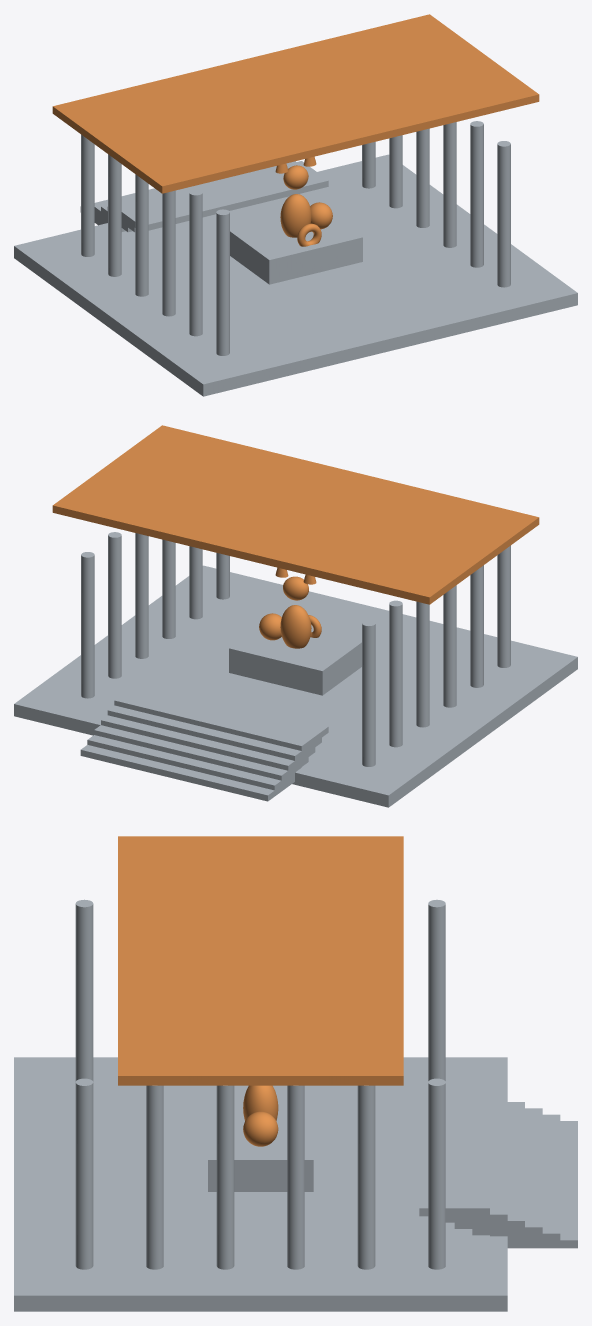
Rendered from fox-temple.glb.
3 renders of one model, top to bottom at view 1: azimuth 30°, elevation 25°; view 2: azimuth 150°, elevation 25°; view 3: azimuth 270°, elevation 25°, orthographic. The views are drawn at different scales.
Visible parts, largest first — view 1: platform, altar, step-5, column-4, column-10, column-5, column-11, roof-tile-24, column-3, column-9, roof-tile-27, roof-tile-25 (+37 smaller); view 2: platform, step-5, altar, step-0, step-4, step-2, step-1, step-3, column-1, column-7, column-0, column-6 (+43 smaller); view 3: platform, step-5, altar, column-11, column-7, column-9, column-6, column-5, column-8, column-10, column-0, roof-tile-7 (+38 smaller).
Part boxes in pixels (box(x1,y1,x2,y2)): platform: box(14, 154, 577, 396); altar: box(230, 215, 362, 284); step-5: box(121, 161, 328, 230); column-4: box(189, 189, 202, 336); column-10: box(470, 121, 483, 267); column-5: box(216, 209, 229, 355); column-11: box(497, 141, 510, 287); roof-tile-24: box(135, 154, 211, 193); column-3: box(162, 190, 175, 316); column-9: box(443, 122, 456, 247); roof-tile-27: box(275, 119, 351, 158); roof-tile-25: box(185, 142, 258, 181); platform: box(14, 565, 577, 807); step-5: box(114, 680, 328, 750); altar: box(229, 626, 361, 695); step-0: box(80, 745, 294, 801); step-4: box(107, 705, 321, 761); step-2: box(94, 725, 308, 780); step-1: box(87, 735, 301, 791); step-3: box(101, 715, 315, 770); column-1: box(389, 600, 402, 747); column-7: box(108, 532, 121, 678); column-0: box(362, 620, 375, 766); column-6: box(81, 552, 94, 698); platform: box(14, 1057, 507, 1311); step-5: box(419, 1089, 489, 1216); altar: box(208, 1100, 313, 1191); column-11: box(75, 1078, 93, 1269); column-7: box(357, 1085, 375, 1269); column-9: box(216, 1085, 234, 1269); column-6: box(428, 1078, 445, 1269); column-5: box(75, 899, 93, 1081); column-8: box(287, 1085, 304, 1269); column-10: box(146, 1085, 163, 1269); column-0: box(428, 899, 445, 1080); roof-tile-7: box(329, 1044, 403, 1085).
Size of the model in its own units: 16.1 by 7.4 by 16.
